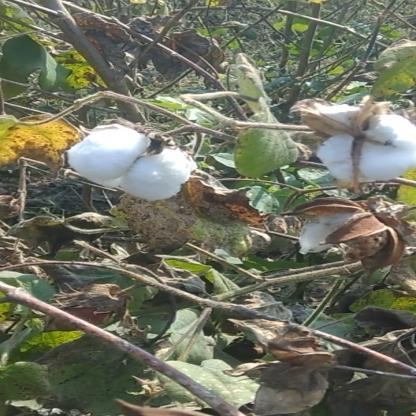cotton_ready: (58, 116, 226, 208), (274, 98, 416, 188)
